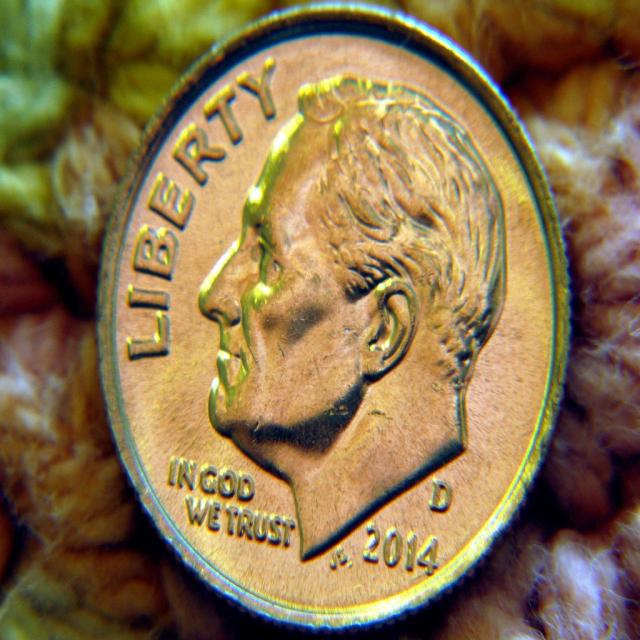Coin: (95, 3, 572, 635)
